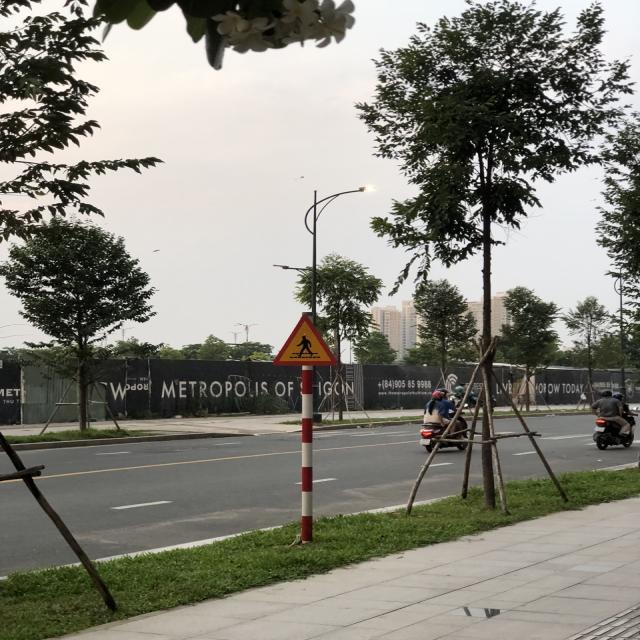Bien bao duong nguoi di bo cat ngang: (265, 308, 349, 374)
